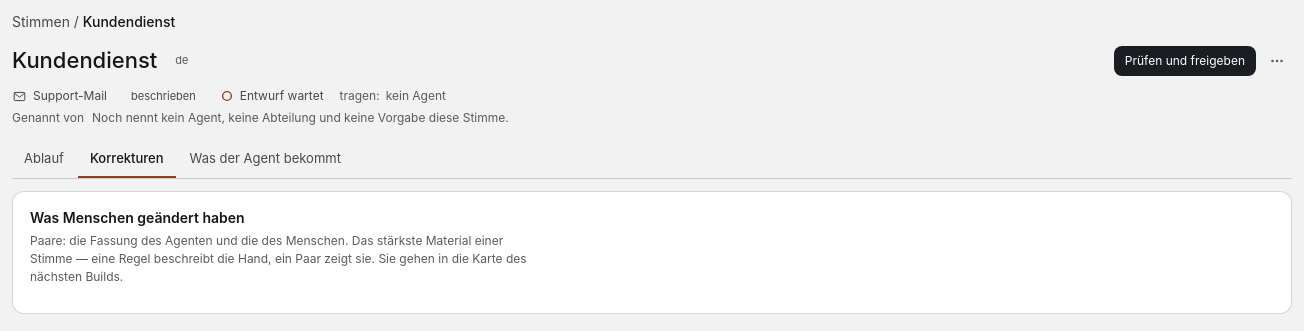
Test: a voice's page (#466) › carries what people changed and what the agent gets in tabs
Expected: the heading "Was Menschen geändert haben" is shown, [30,208,245,226]
Click the tab "Was der Agent bekommt". click: (265, 160)
box: [178,142,353,178]
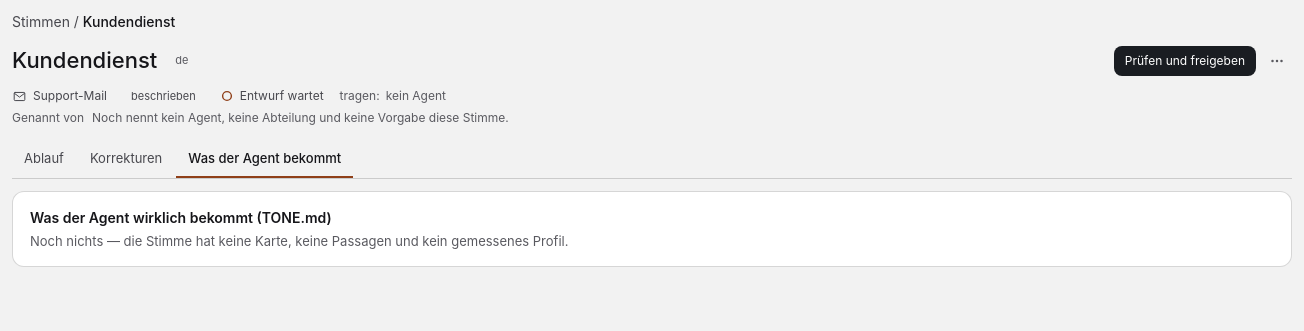
Expected: the text "Noch nichts" is shown, [30,232,568,248]
